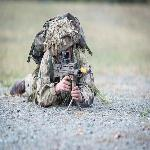Senapan: (53, 64, 101, 106)
